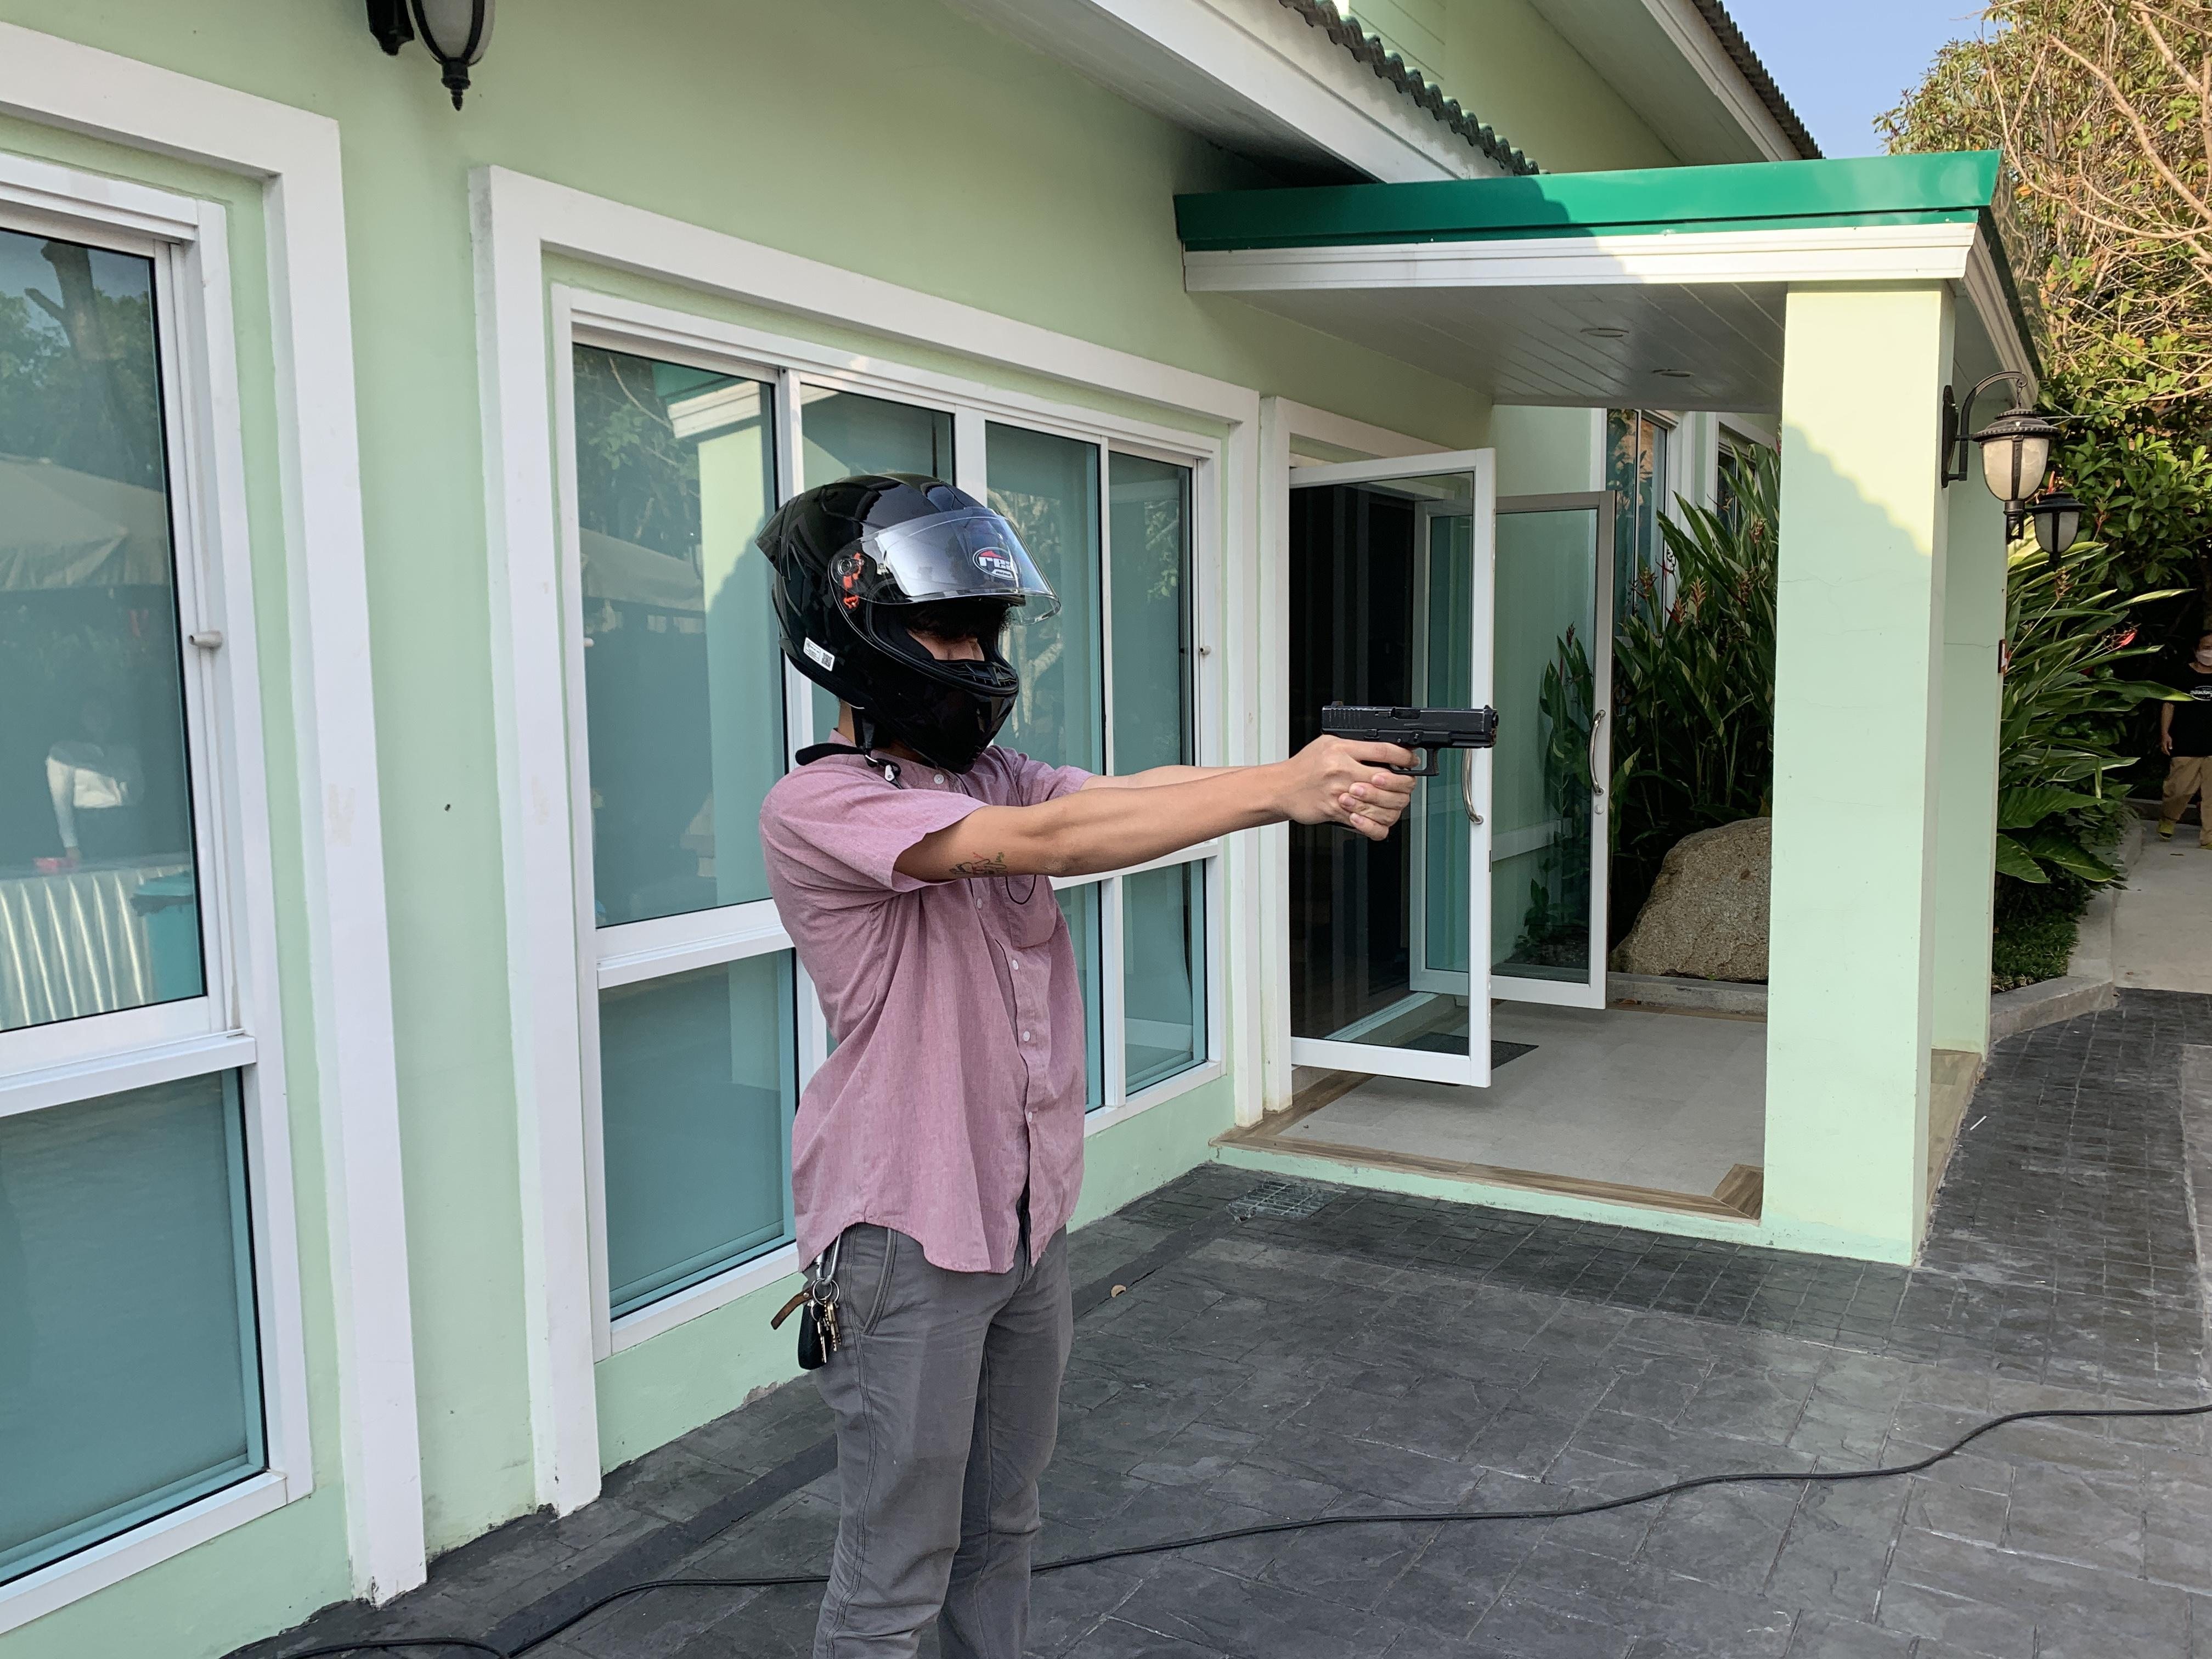criminal: (759, 472, 1507, 1659)
weapon: (1312, 702, 1503, 786)
